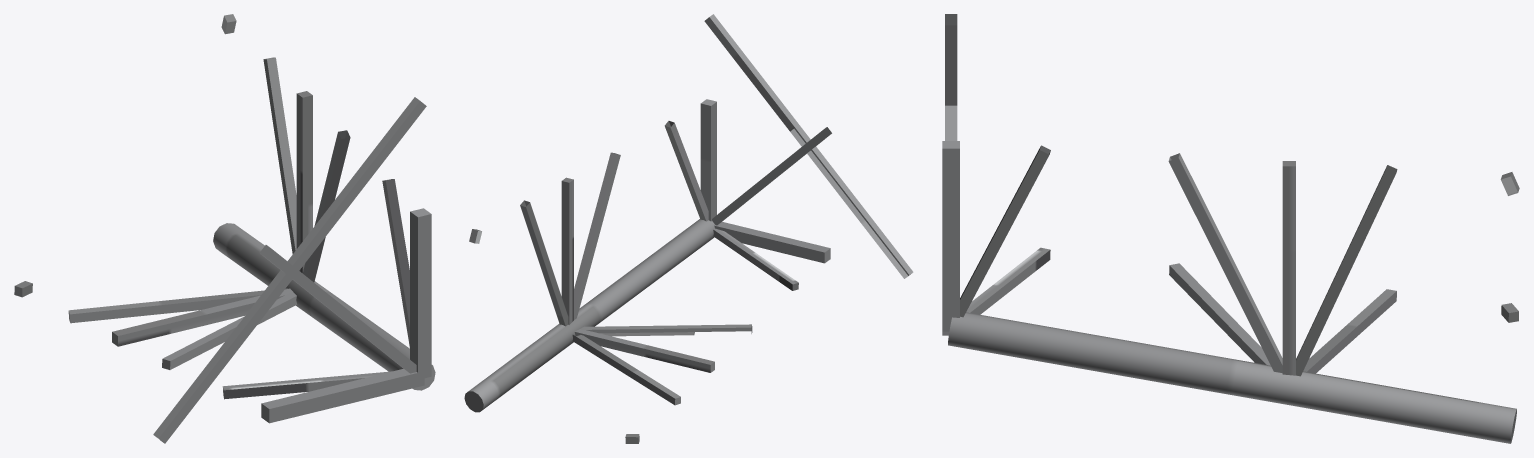
The picture shows the model from 3 angles, left to right: view 1: azimuth 30°, elevation 25°; view 2: azimuth 150°, elevation 25°; view 3: azimuth 270°, elevation 25°; orthographic projection. The views are drawn at different scales.
Bounding box in the file's own units: 1.58 × 1.58 × 2.09.
